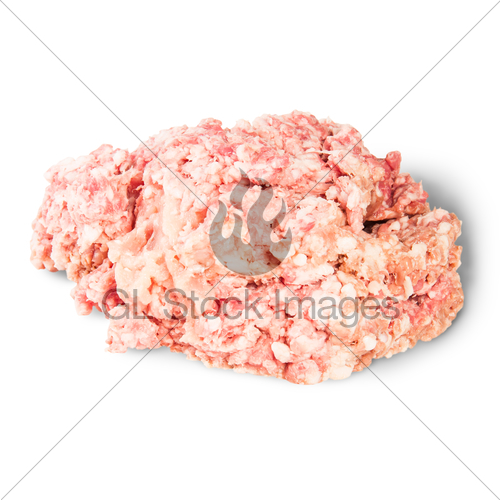ground_beef: (42, 107, 468, 399)
